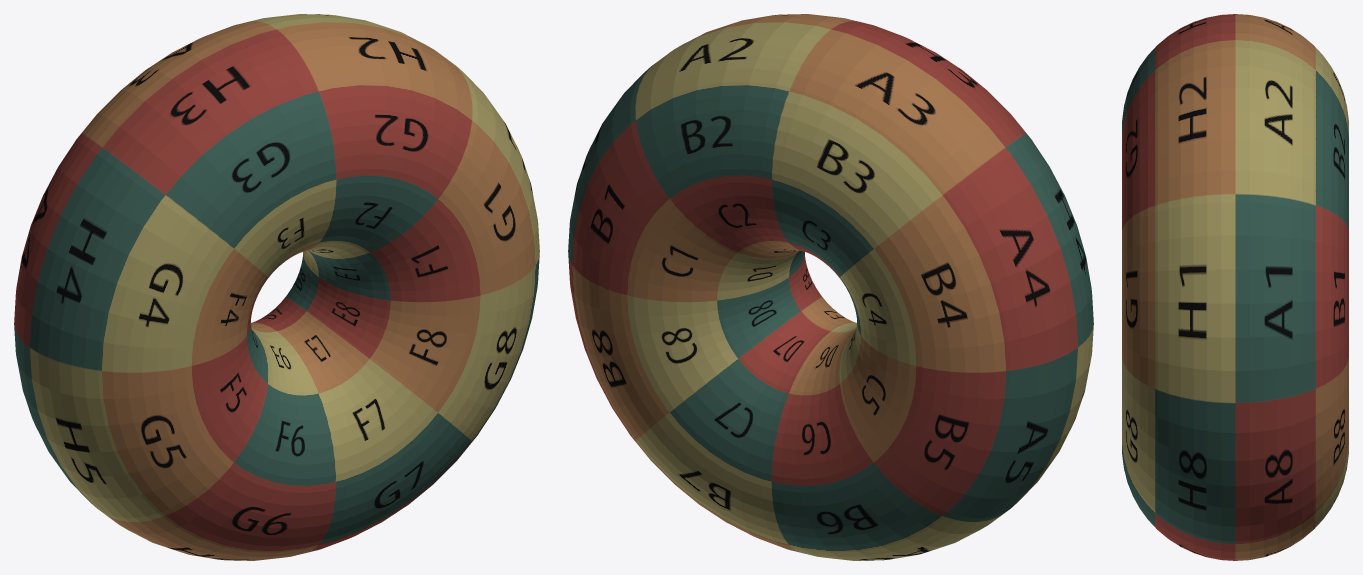
Rendered from texture_torus_R5_r28.glb.
The picture shows the model from 3 angles, left to right: view 1: azimuth 30°, elevation 25°; view 2: azimuth 150°, elevation 25°; view 3: azimuth 270°, elevation 25°; orthographic projection. The views are drawn at different scales.
Parts seen in each view (by area): view 1: world; view 2: world; view 3: world.
Boxes of the visible parts, x1,y1,x2,y2 form: world: [14, 14, 539, 560]; world: [568, 14, 1093, 560]; world: [1122, 14, 1348, 560].
Size of the model in its own units: 22.8 by 22.76 by 9.45.
1 material, 1 textured.
